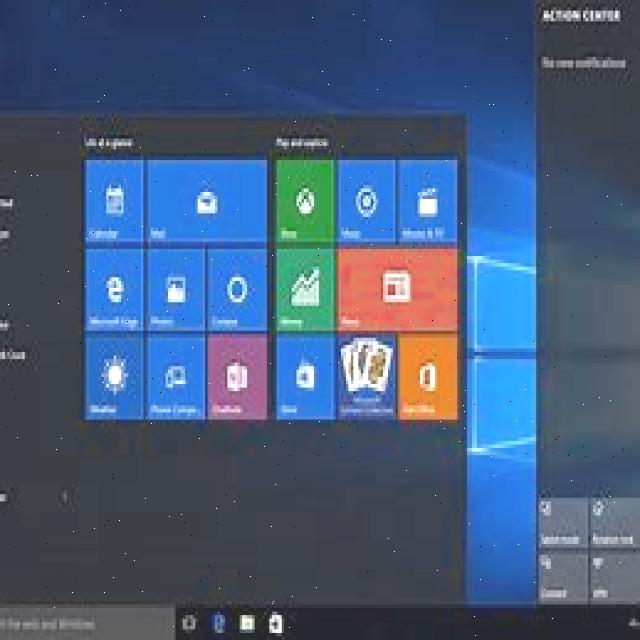button: (146, 154, 270, 247), (335, 245, 460, 332), (205, 332, 269, 423), (274, 330, 337, 422), (397, 154, 460, 246), (144, 244, 208, 334), (336, 154, 398, 246), (396, 334, 459, 424), (206, 244, 270, 332), (83, 244, 146, 333), (83, 331, 146, 420), (144, 334, 207, 422), (274, 246, 336, 335), (83, 157, 144, 247), (275, 157, 337, 244), (336, 335, 398, 422), (537, 494, 591, 550), (590, 495, 638, 550), (538, 552, 590, 601), (591, 552, 638, 600)
label: (540, 1, 630, 28), (272, 132, 334, 152), (86, 130, 136, 152)
menu: (0, 601, 640, 640)
